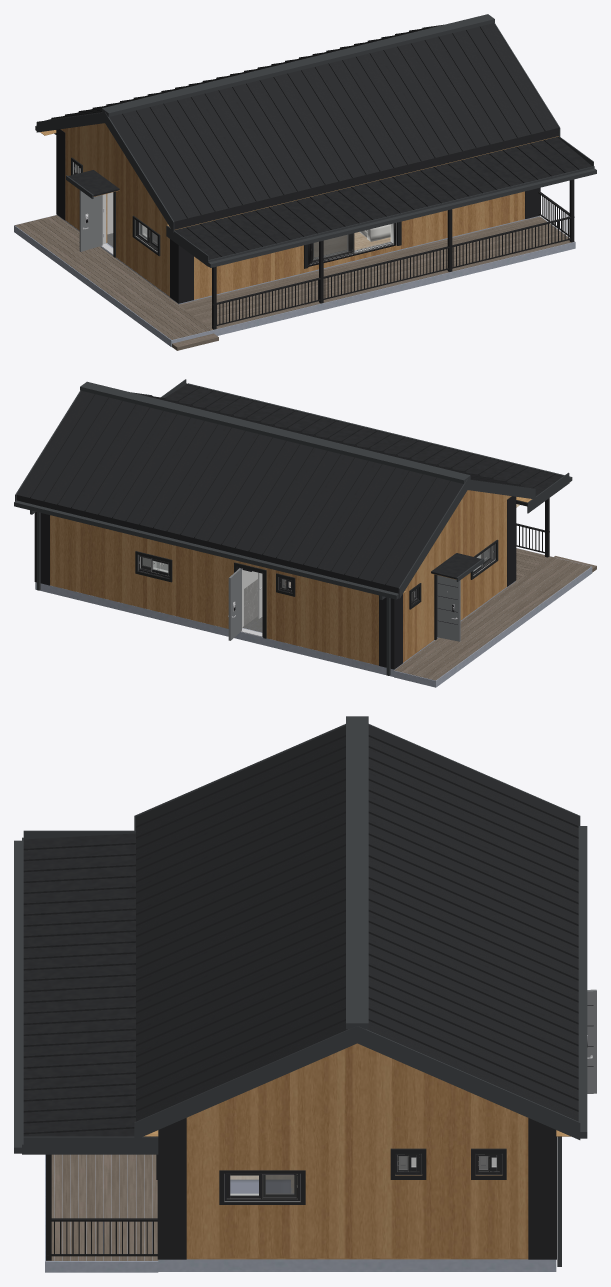
File: seum-24.glb
3 views of the same model, one above another, from view 1: azimuth 30°, elevation 25°; view 2: azimuth 150°, elevation 25°; view 3: azimuth 270°, elevation 25° (orthographic). The views are drawn at different scales.
Visible parts, largest first — view 1: 지붕_징크판넬, 우드_메탈사이딩, 지붕_후레싱_차콜, 24_블랙_무광, 데크스커트, 합성데크_X0, 합성데크_X1, 합성데크_X2, 합성데크_Y0, 24_블랙_메탈사이딩, 합성데크_Y1, 합성데크_Y2 (+9 smaller); view 2: 지붕_징크판넬, 우드_메탈사이딩, 지붕_후레싱_차콜, 데크스커트, 24_블랙_메탈사이딩, 합성데크_Y0, 현관문_도어패널_다크그레이, 합성데크_Y1, 합성데크_Y2, 지붕_우드_메탈사이딩, 창호케이싱, 창호_외부프레임_블랙 (+4 smaller); view 3: 지붕_징크판넬, 우드_메탈사이딩, 지붕_후레싱_차콜, 지붕_우드_메탈사이딩, 24_블랙_메탈사이딩, 데크스커트, 합성데크_X0, 합성데크_X1, 합성데크_X2, 24_블랙_무광, 창호케이싱, 창호_외부프레임_블랙 (+4 smaller).
Boxes of the visible parts, x1,y1,x2,y2 form: 지붕_징크판넬: (45, 23, 592, 259); 우드_메탈사이딩: (65, 133, 524, 299); 지붕_후레싱_차콜: (35, 14, 596, 267); 24_블랙_무광: (212, 179, 574, 329); 데크스커트: (14, 215, 575, 346); 합성데크_X0: (181, 218, 574, 329); 합성데크_X1: (172, 216, 569, 350); 합성데크_X2: (184, 219, 568, 325); 합성데크_Y0: (15, 215, 213, 339); 24_블랙_메탈사이딩: (56, 129, 540, 303); 합성데크_Y1: (19, 217, 205, 338); 합성데크_Y2: (24, 216, 210, 337); 지붕_징크판넬: (16, 384, 562, 593); 우드_메탈사이딩: (50, 500, 506, 665); 지붕_후레싱_차콜: (14, 379, 572, 599); 데크스커트: (35, 548, 592, 687); 24_블랙_메탈사이딩: (34, 496, 516, 669); 합성데크_Y0: (394, 556, 591, 680); 현관문_도어패널_다크그레이: (228, 568, 460, 641); 합성데크_Y1: (401, 558, 586, 679); 합성데크_Y2: (397, 557, 582, 678); 지붕_우드_메탈사이딩: (424, 490, 511, 560); 창호케이싱: (135, 539, 498, 639); 창호_외부프레임_블랙: (138, 543, 495, 636); 지붕_징크판넬: (23, 725, 578, 1136); 우드_메탈사이딩: (186, 1116, 528, 1259); 지붕_후레싱_차콜: (14, 716, 587, 1154); 지붕_우드_메탈사이딩: (189, 1043, 524, 1116); 24_블랙_메탈사이딩: (157, 1118, 556, 1259); 데크스커트: (45, 1154, 556, 1272); 합성데크_X0: (46, 1154, 152, 1260); 합성데크_X1: (54, 1154, 158, 1260); 합성데크_X2: (62, 1154, 143, 1260); 24_블랙_무광: (46, 1154, 157, 1260); 창호케이싱: (156, 1148, 506, 1204); 창호_외부프레임_블랙: (224, 1153, 502, 1201).
Bounding box in the file's own units: 13.93 × 5.08 × 10.37.
Materials: 152 (27 with a texture image).
